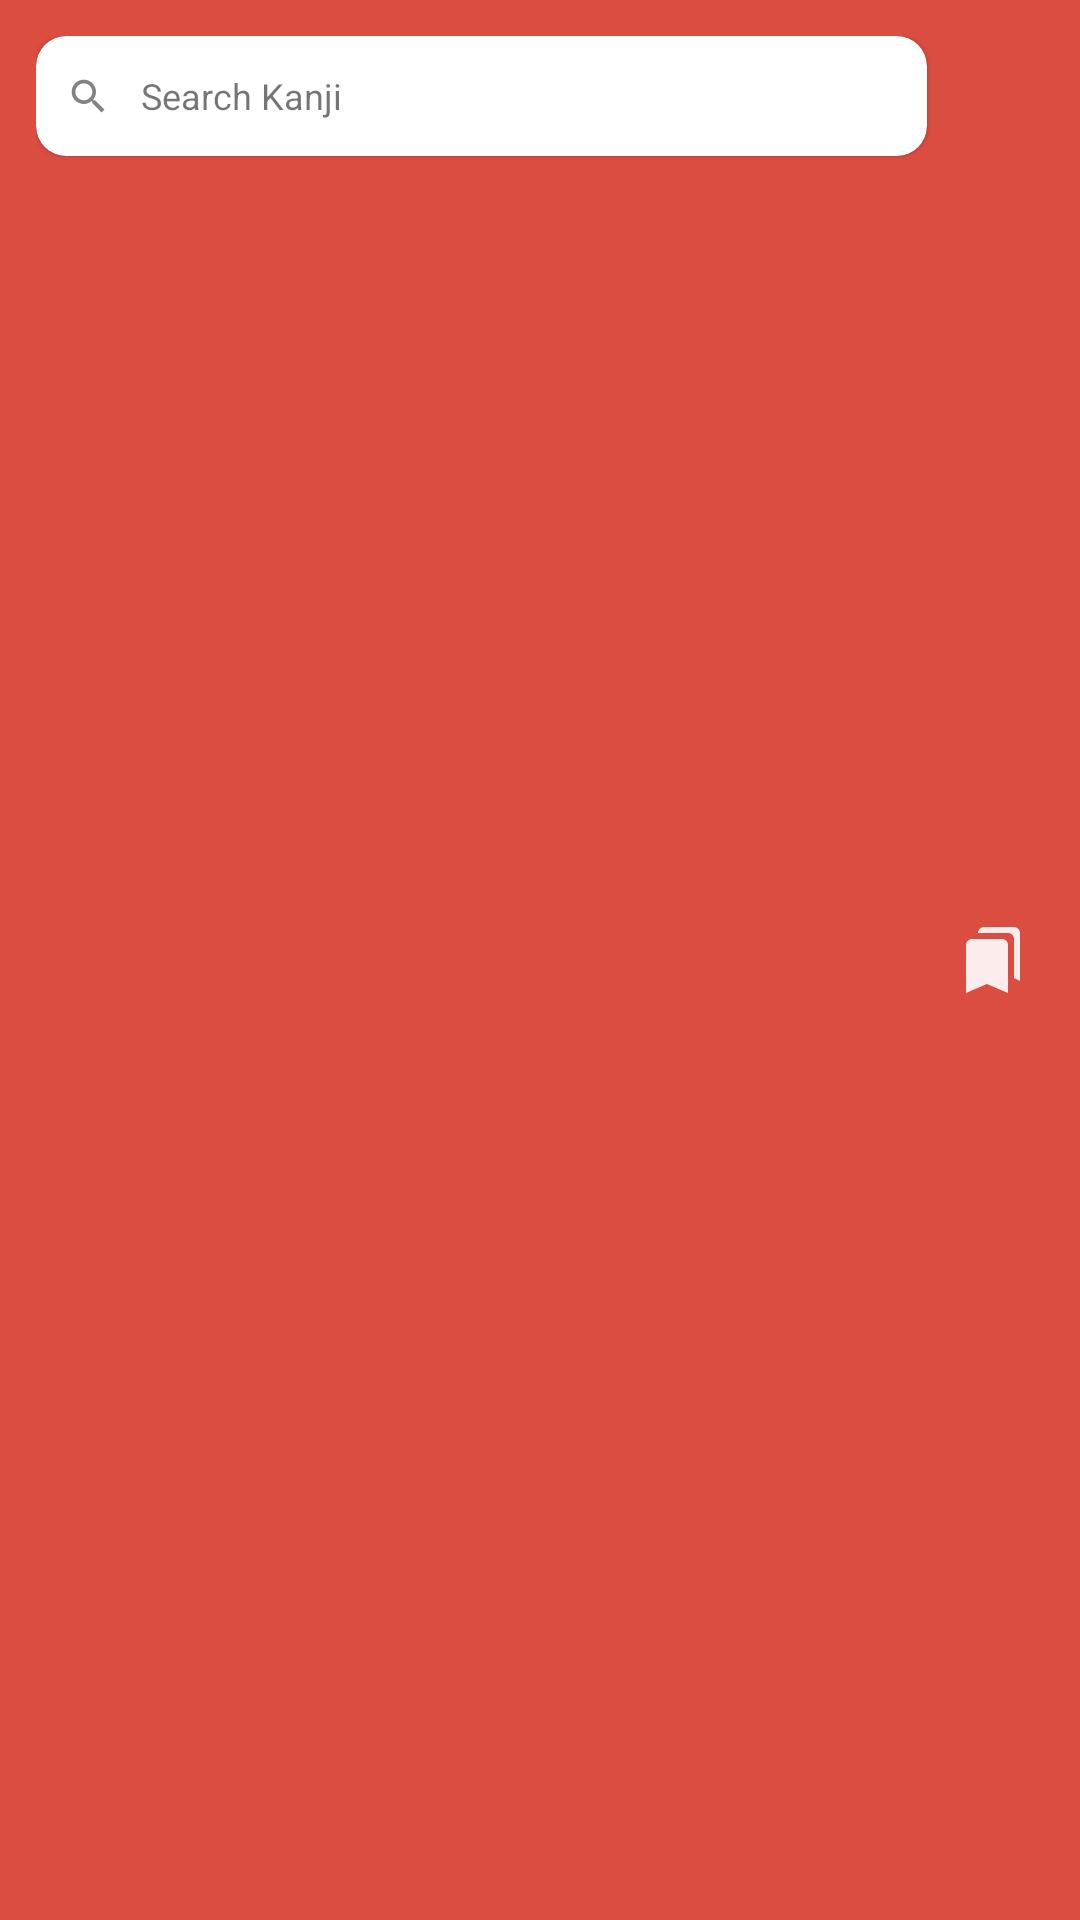

Point at icon controls on the screen. Image size 1080x1920, points as [x,y].
bookmarks: [993,960]
